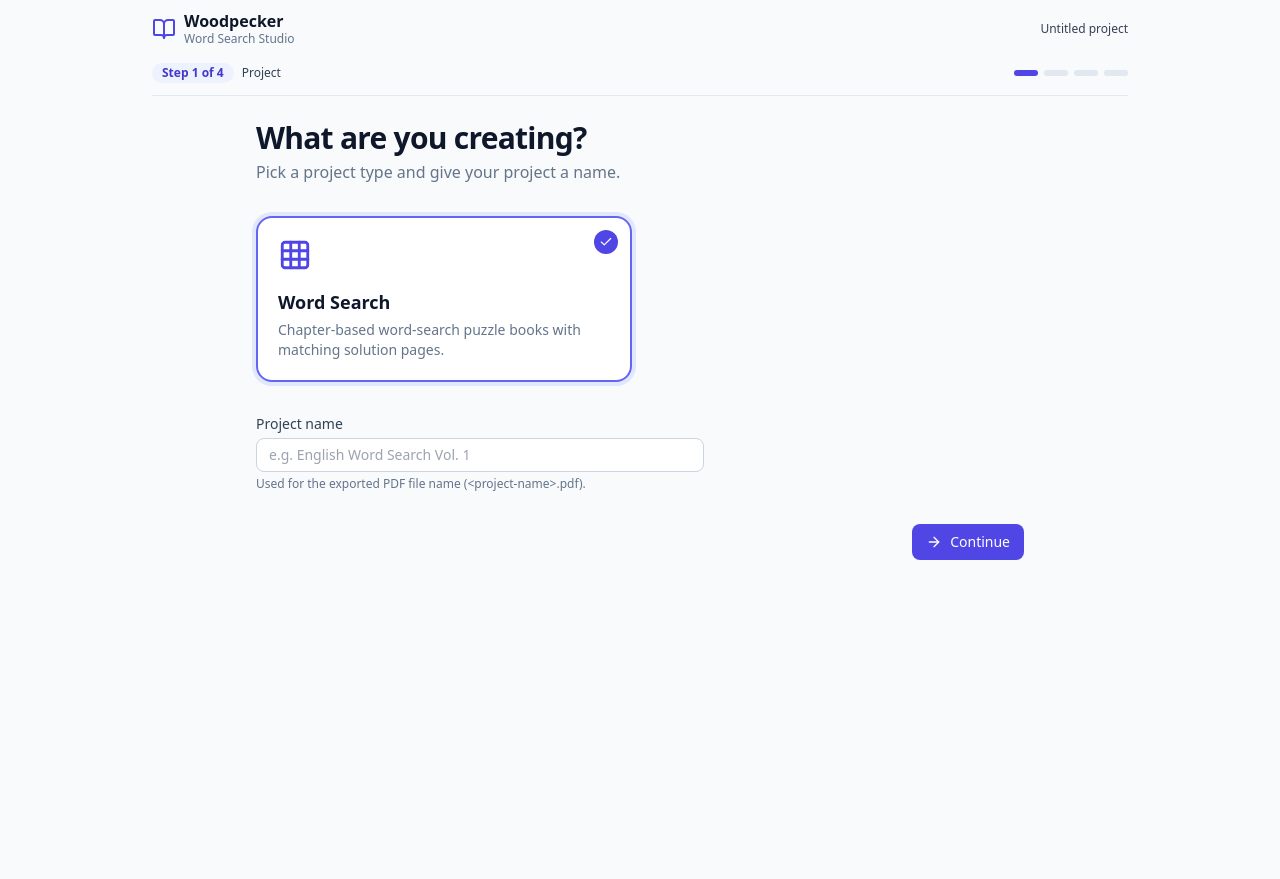
Test: Linear studio flow (no sidebar, no dashboard, no separate bulk generator screen) › Step 2 of 4: standard sizes, custom size validation and unit conversion
The width and height of the screenshot is (1280, 879).
Click the button "Continue" at (968, 542), box [912,524,1024,560]
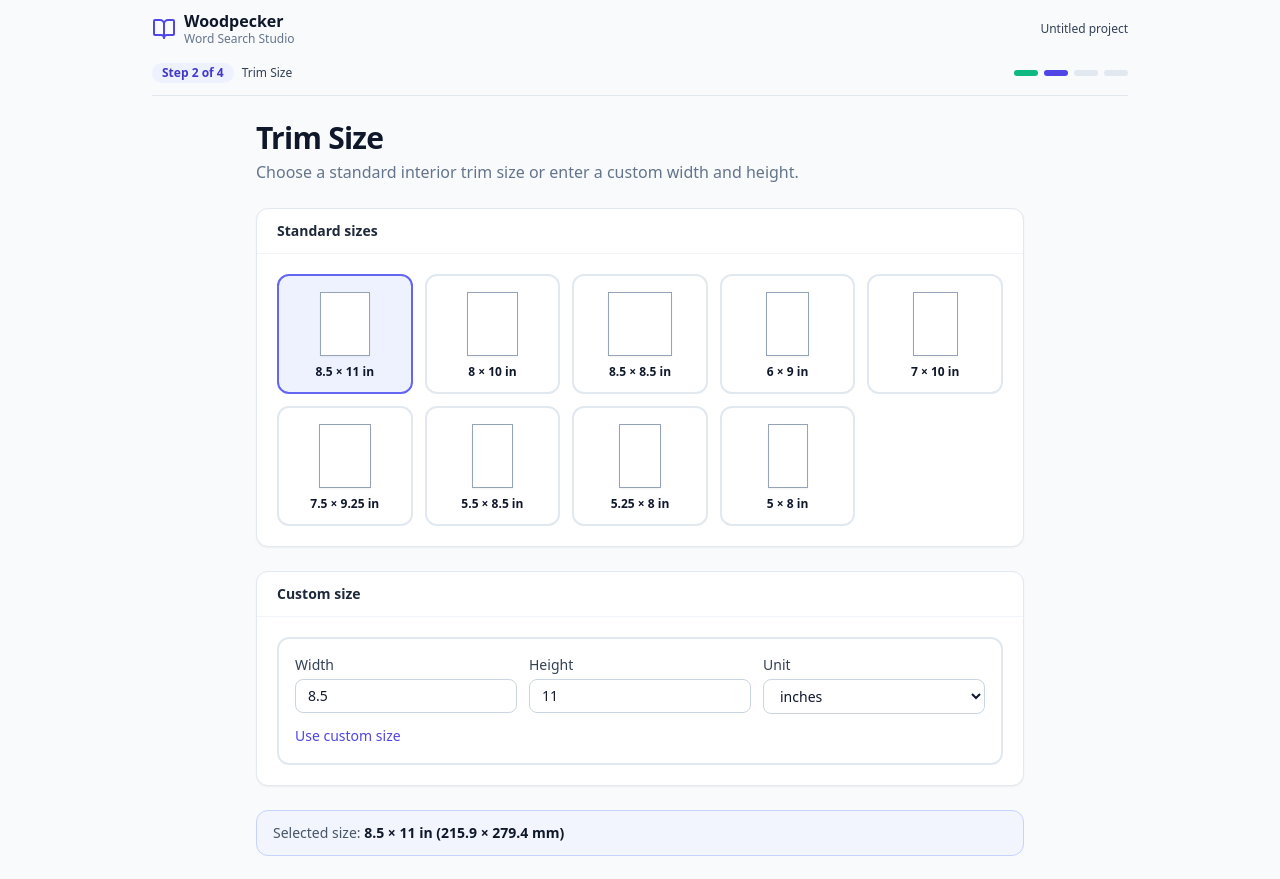
Now the text with test id "step-counter" reads "Step 2 of 4", box [152,63,234,83]
Now the text with test id "selected-size" shows "8.5 × 11 in", box [364,823,564,842]
Click the button "6 × 9 in" at (788, 334), box [720,274,855,394]
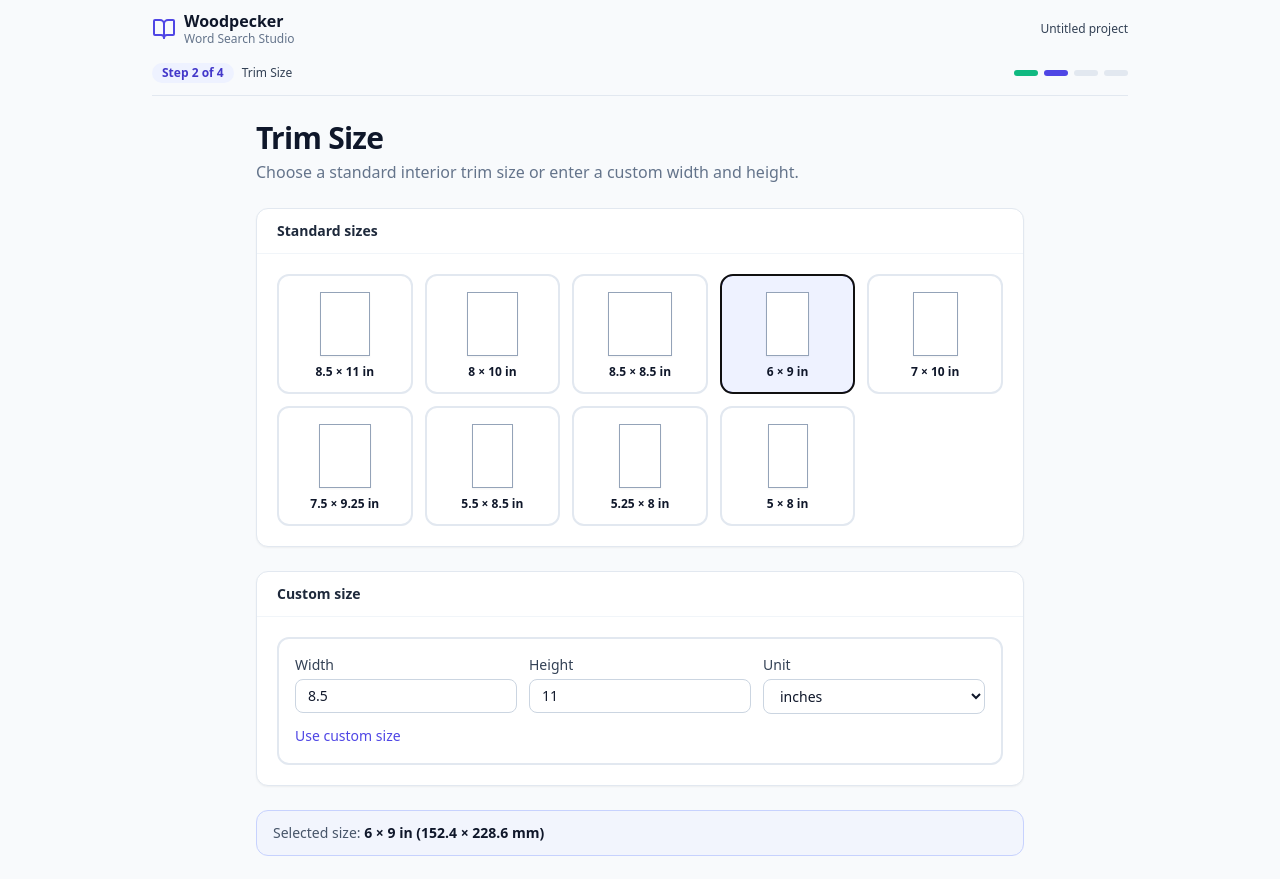
Now the text with test id "selected-size" reads "6 × 9 in (152.4 × 228.6 mm)", box [364,823,544,842]
Replace the text in the number field named "Custom width" with "1" at (406, 696), box [295,679,517,713]
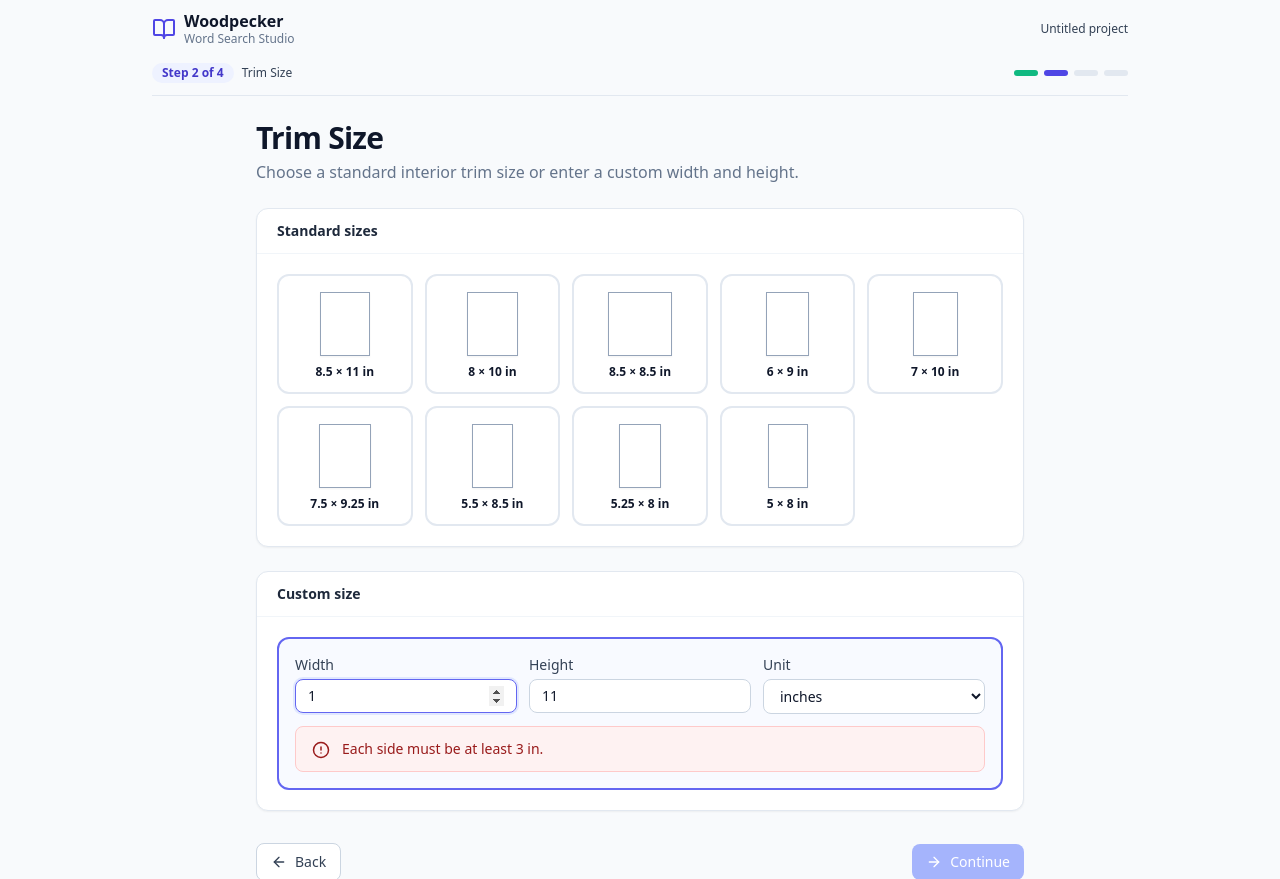
Now the button "Continue" is disabled, box [912,844,1024,878]
Now the text "Each side must be at least 3 in." is shown, box [342,739,543,759]
Replace the text in the number field named "Custom width" with "8" at (406, 696), box [295,679,517,713]
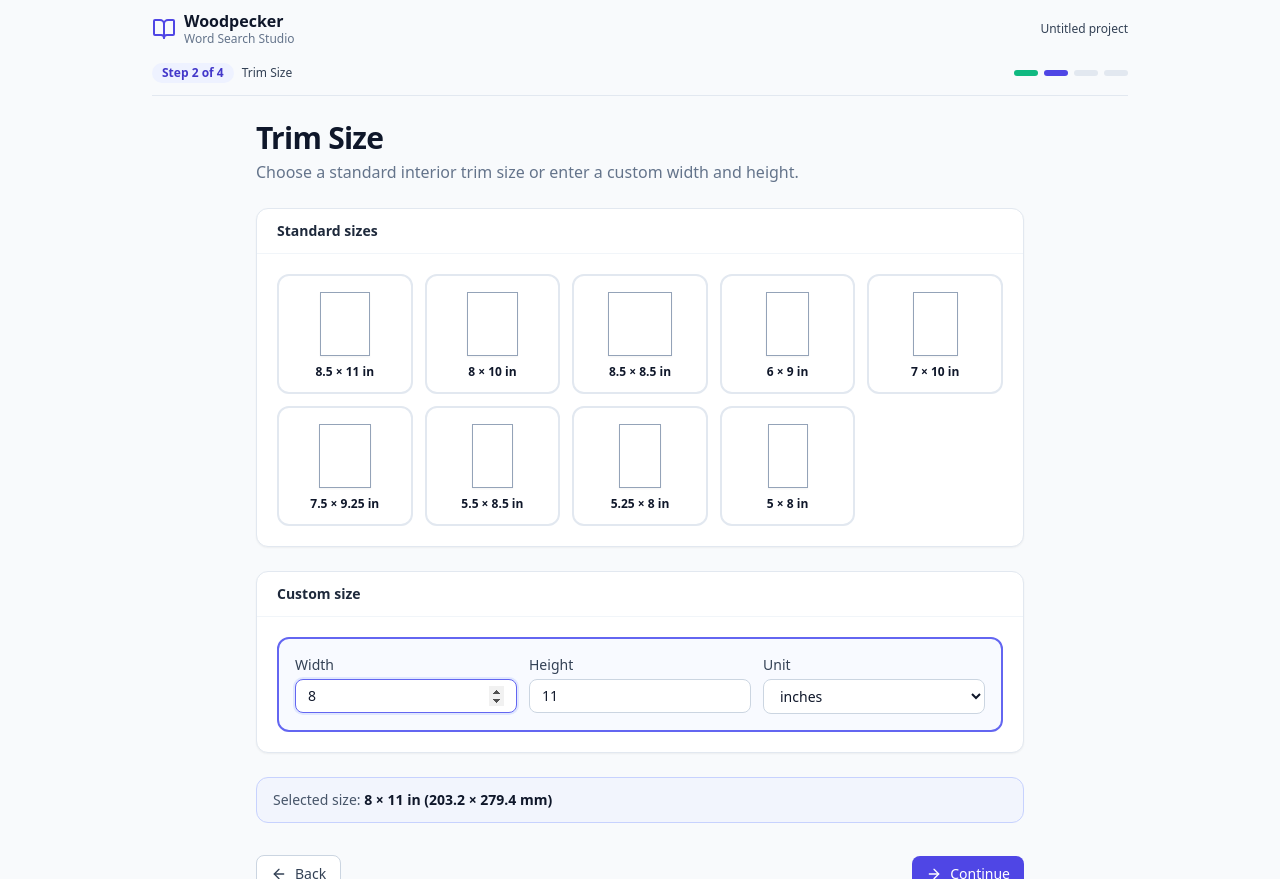
Select "millimetres" in the dropdown labelled "Unit" at (874, 696), box [763,679,985,714]
(page scrolled)
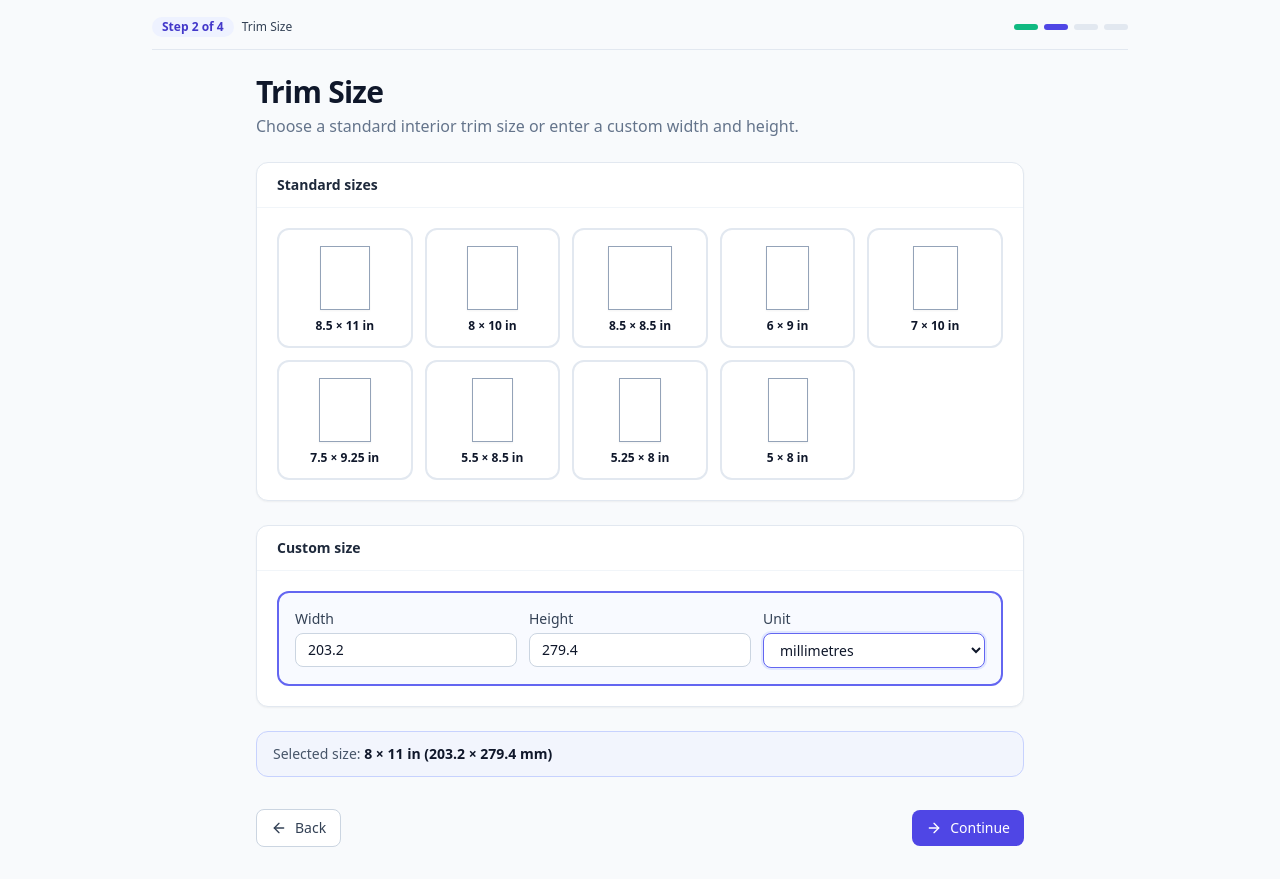
Now the button "Continue" is enabled, box [912,810,1024,846]
Now the number field named "Custom width" holds "203.2", box [295,633,517,667]
